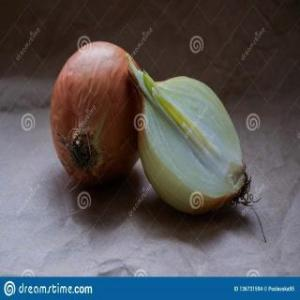onion: (132, 59, 250, 215), (52, 43, 142, 185)
